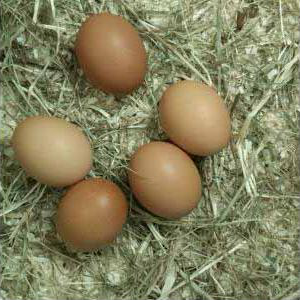egg: (56, 180, 130, 256), (13, 117, 92, 186), (79, 14, 148, 92), (158, 82, 231, 155), (130, 142, 201, 217)
